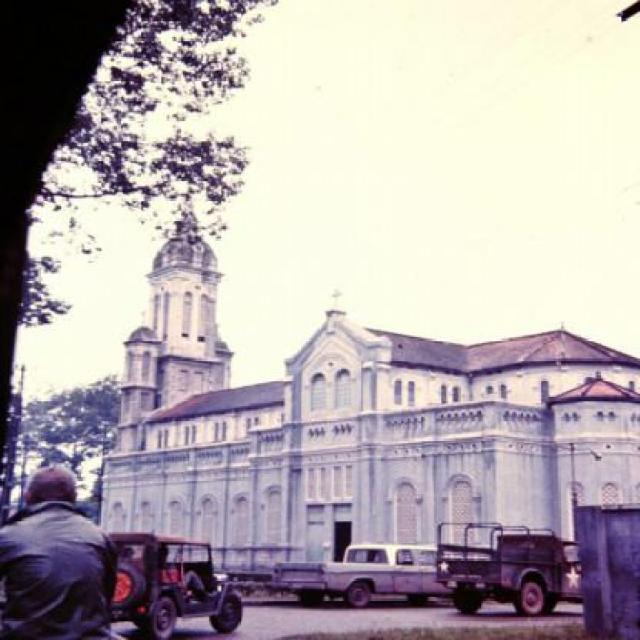bicycle: (443, 528, 582, 618)
